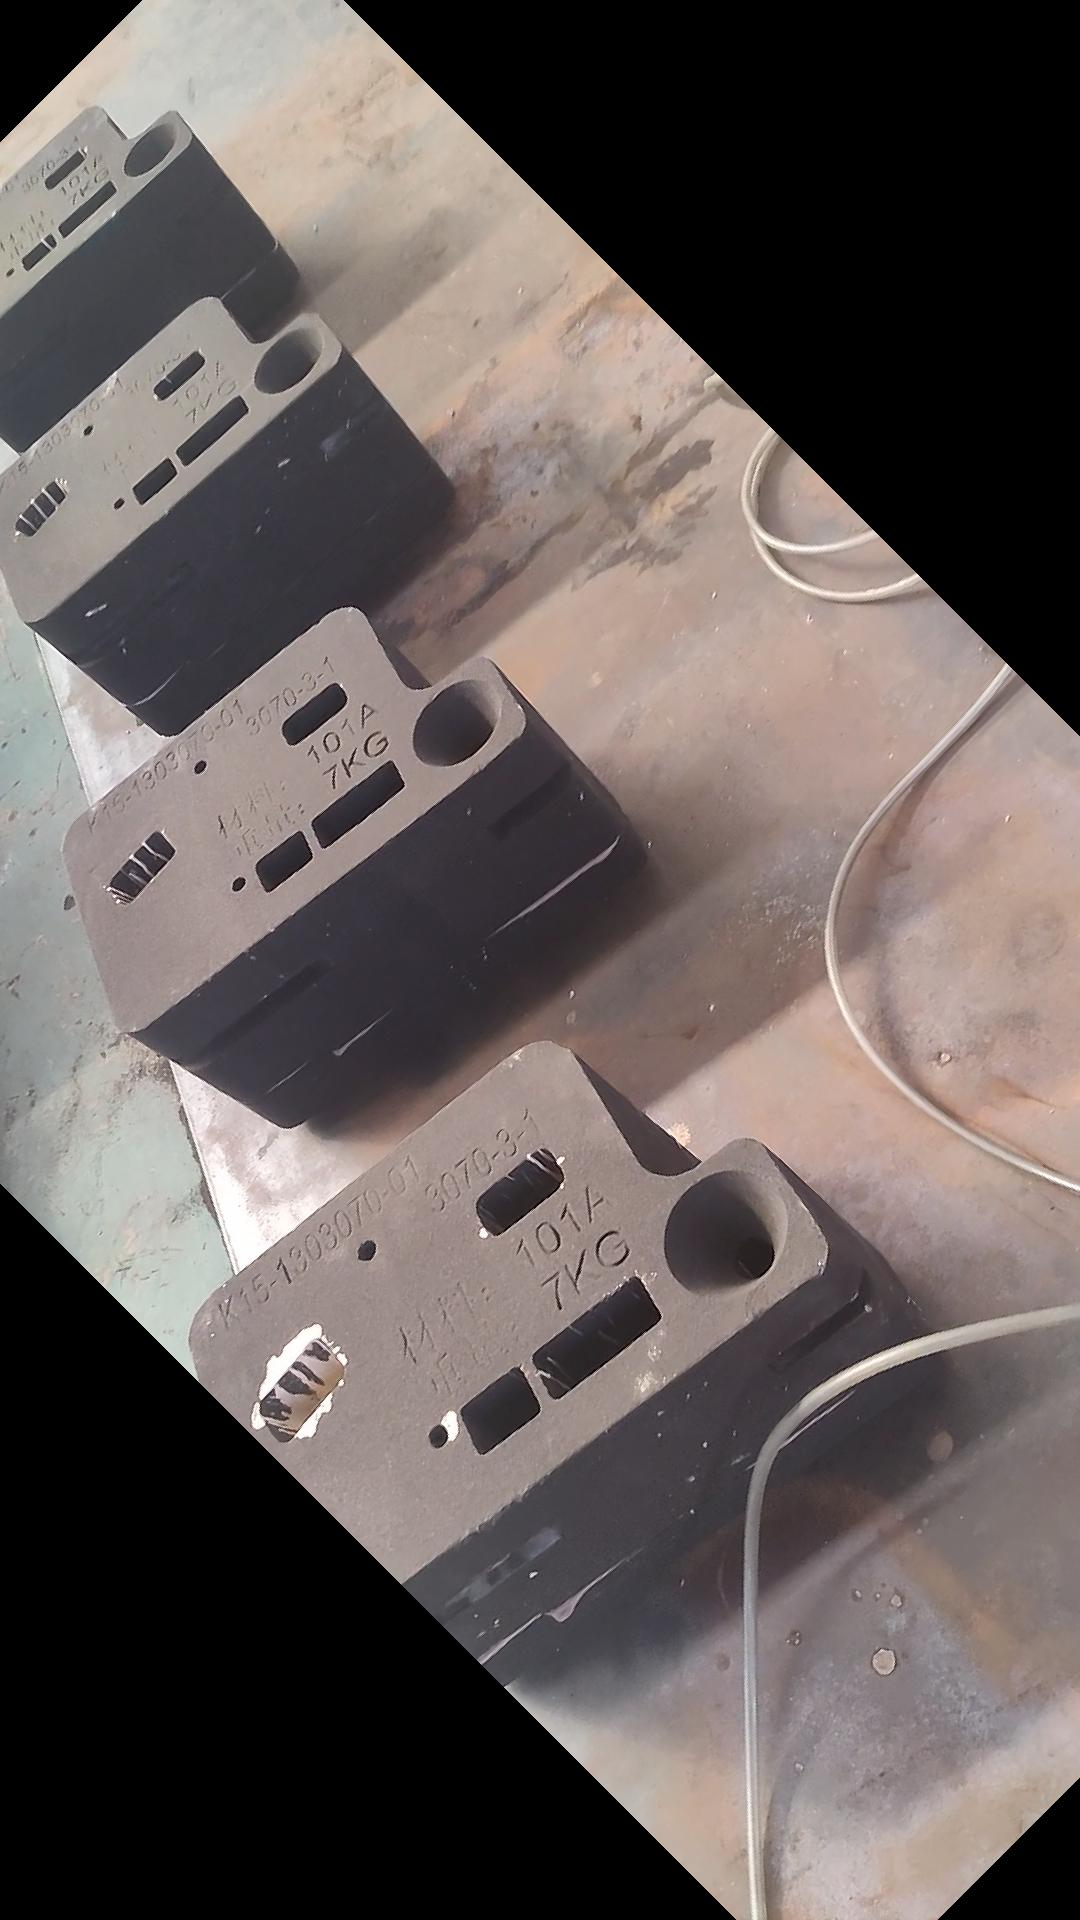pouring hole: (665, 1168, 786, 1298), (413, 679, 502, 767), (255, 324, 323, 393), (123, 121, 177, 175)
